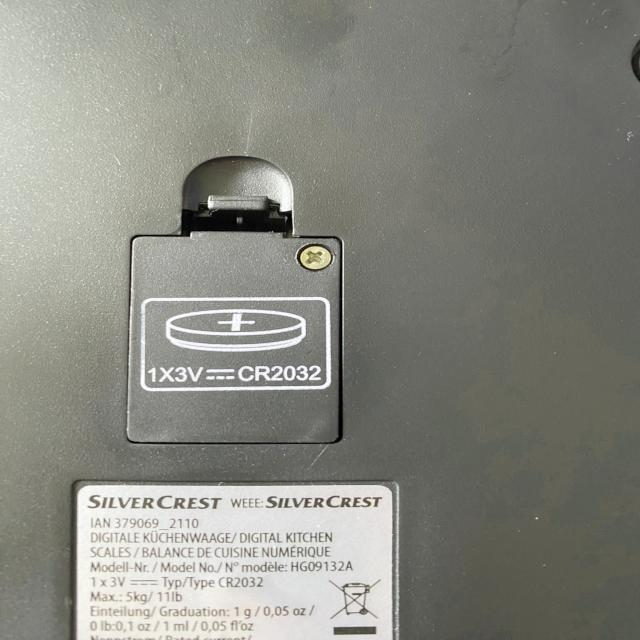PhillipsScrewHead: (296, 245, 332, 271)
